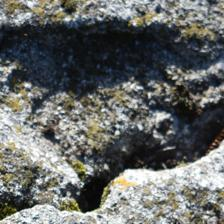Crack: (56, 96, 164, 125), (90, 193, 191, 224)
